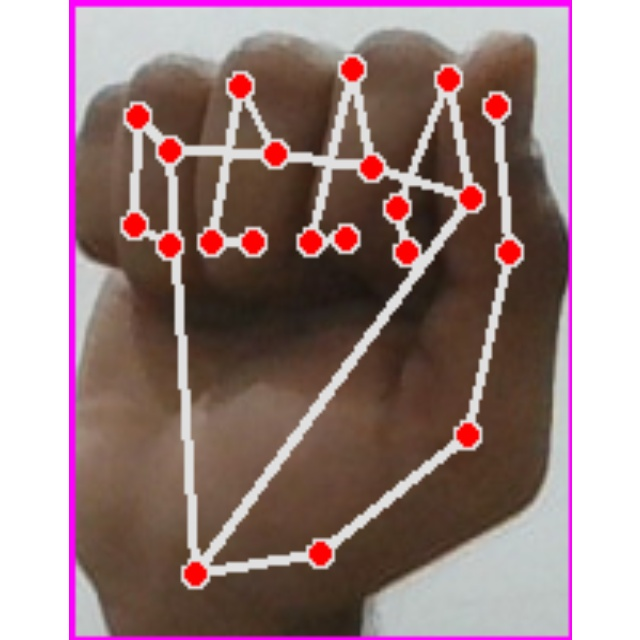A: (69, 0, 572, 640)
